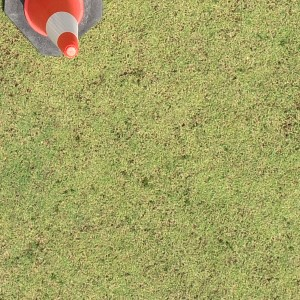traffic cone: (3, 1, 103, 57)
